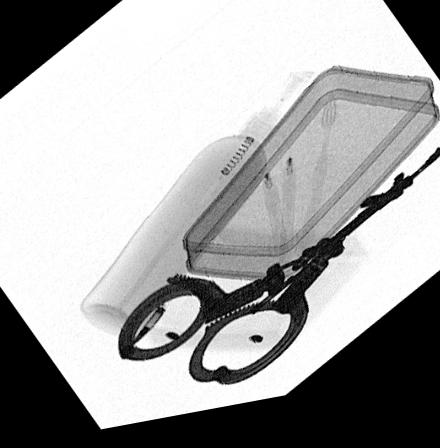Bullet: (130, 311, 166, 348)
Gun: (249, 155, 440, 325)
HandCuffs: (112, 250, 347, 395)
